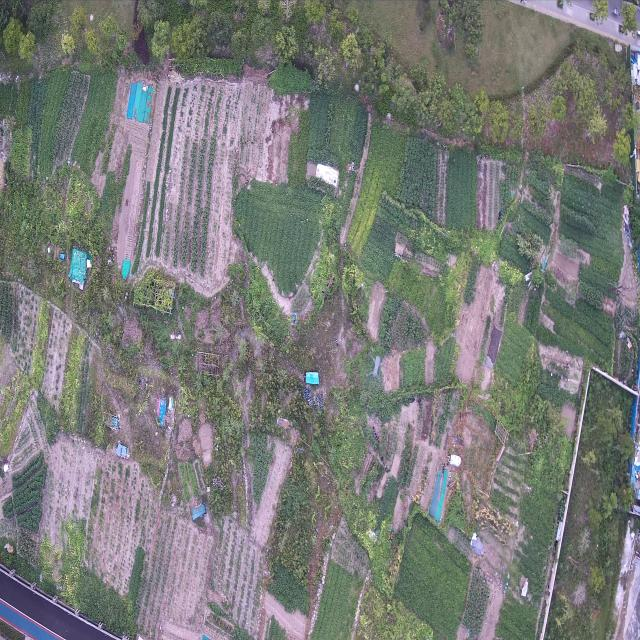UAV: (366, 350, 384, 386)
